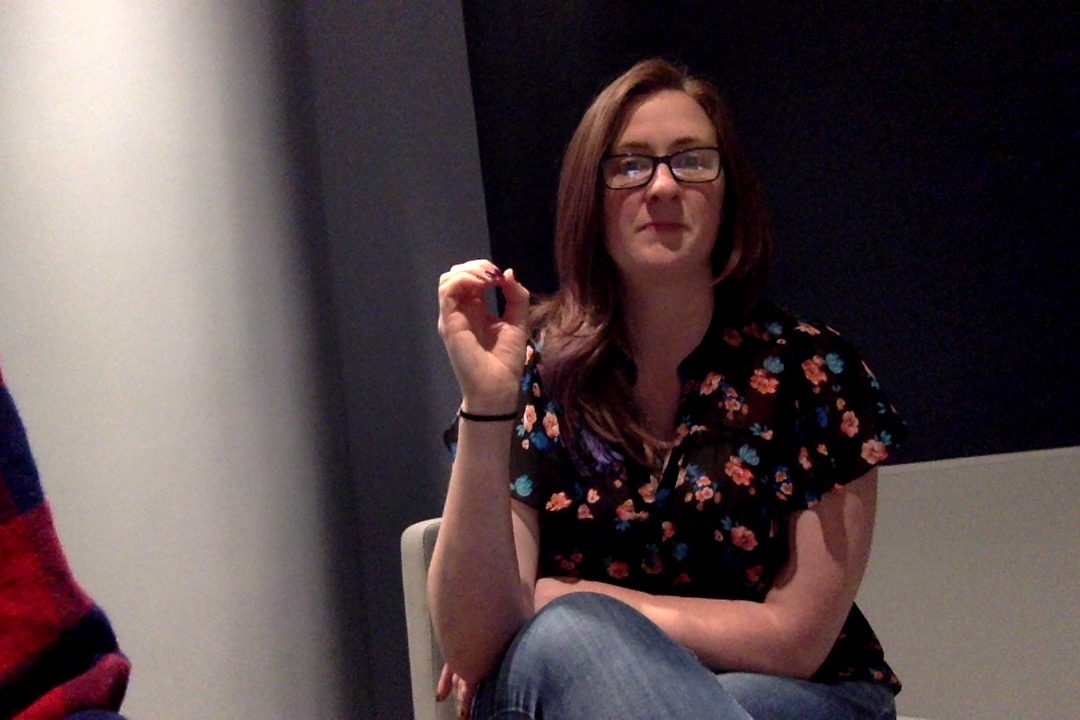o: (425, 250, 543, 472)
